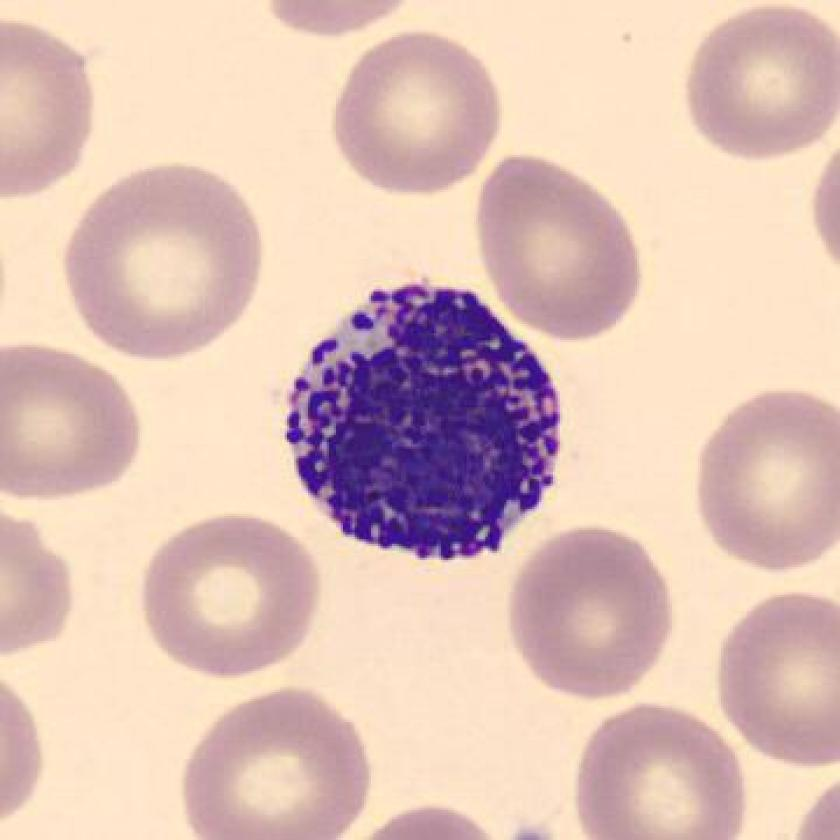basophil: (279, 272, 577, 568)
